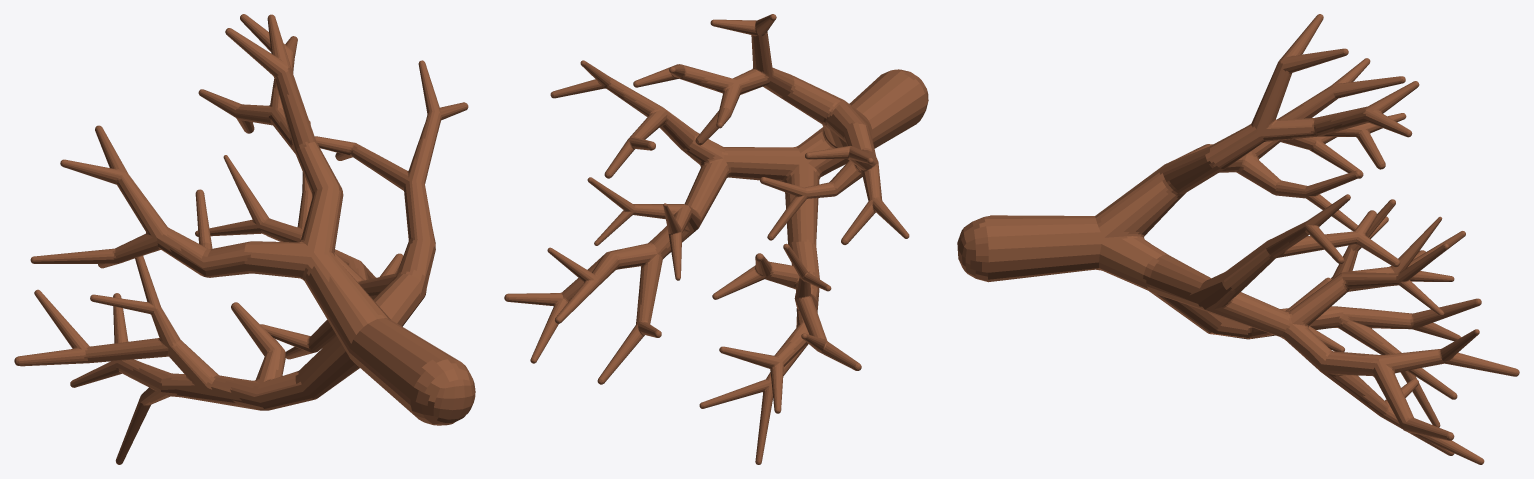
The model's file is treepost4.fbx.
The picture shows the model from 3 angles, left to right: view 1: azimuth 30°, elevation 25°; view 2: azimuth 150°, elevation 25°; view 3: azimuth 270°, elevation 25°; orthographic projection. The views are drawn at different scales.
Visible parts, largest first — view 1: ZSphere tree.003; view 2: ZSphere tree.003; view 3: ZSphere tree.003.
Boxes of the visible parts, <box> form: ZSphere tree.003: <box>14,14,475,464</box>; ZSphere tree.003: <box>504,14,928,464</box>; ZSphere tree.003: <box>957,14,1519,464</box>.
Bounding box in the file's own units: 1761 × 1850 × 2168.
